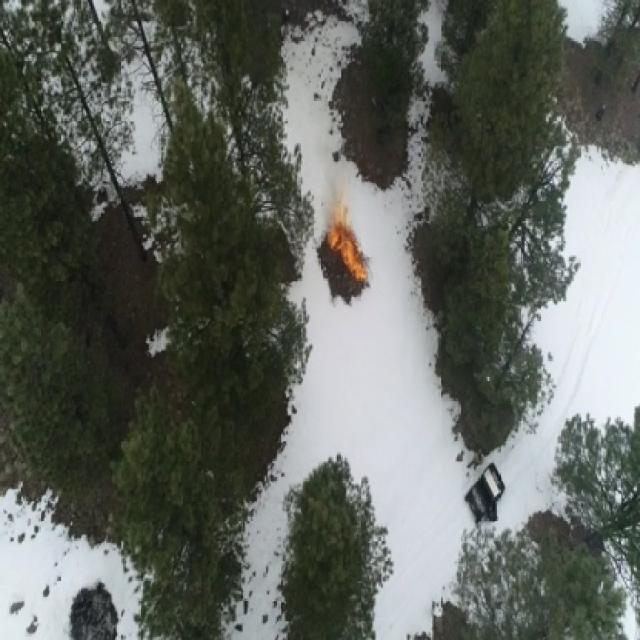Fire: (325, 198, 369, 284)
